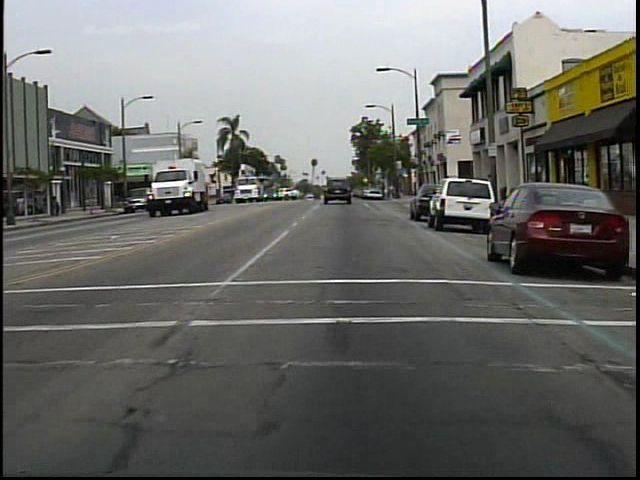person: (53, 193, 62, 218)
